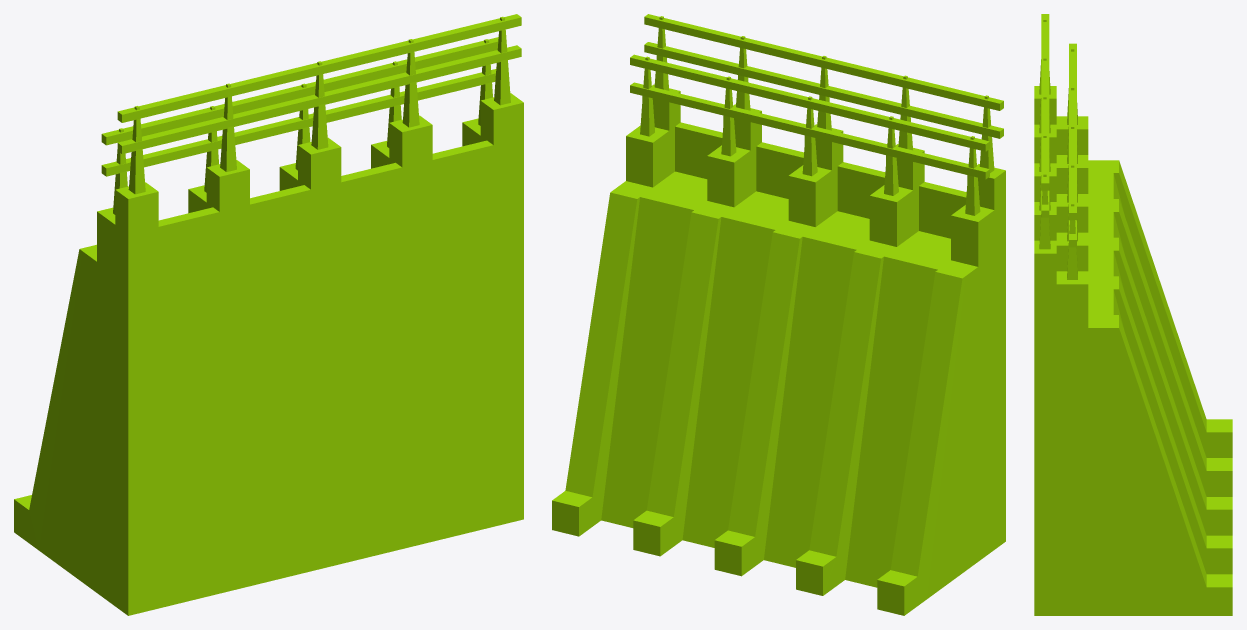
Rendered from mo_Obstacle.fbx.
3 renders of one model, left to right at view 1: azimuth 30°, elevation 25°; view 2: azimuth 150°, elevation 25°; view 3: azimuth 270°, elevation 25°, orthographic. The views are drawn at different scales.
Visible parts, largest first — view 1: obstacle_geo15; view 2: obstacle_geo15; view 3: obstacle_geo15.
Boxes of the visible parts, <box> form: obstacle_geo15: <box>14,14,523,615</box>; obstacle_geo15: <box>552,14,1005,615</box>; obstacle_geo15: <box>1034,14,1232,615</box>.
Bounding box in the file's own units: 2524 × 3024 × 1250.
